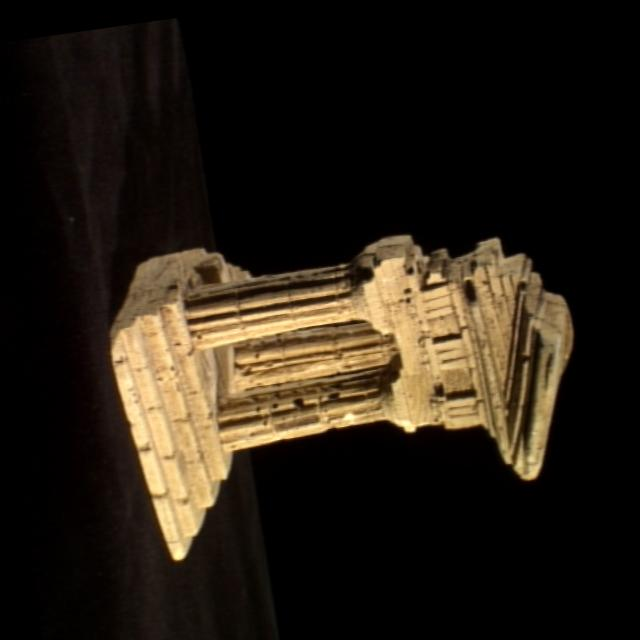Instance-Segmentation: (111, 235, 570, 560)
